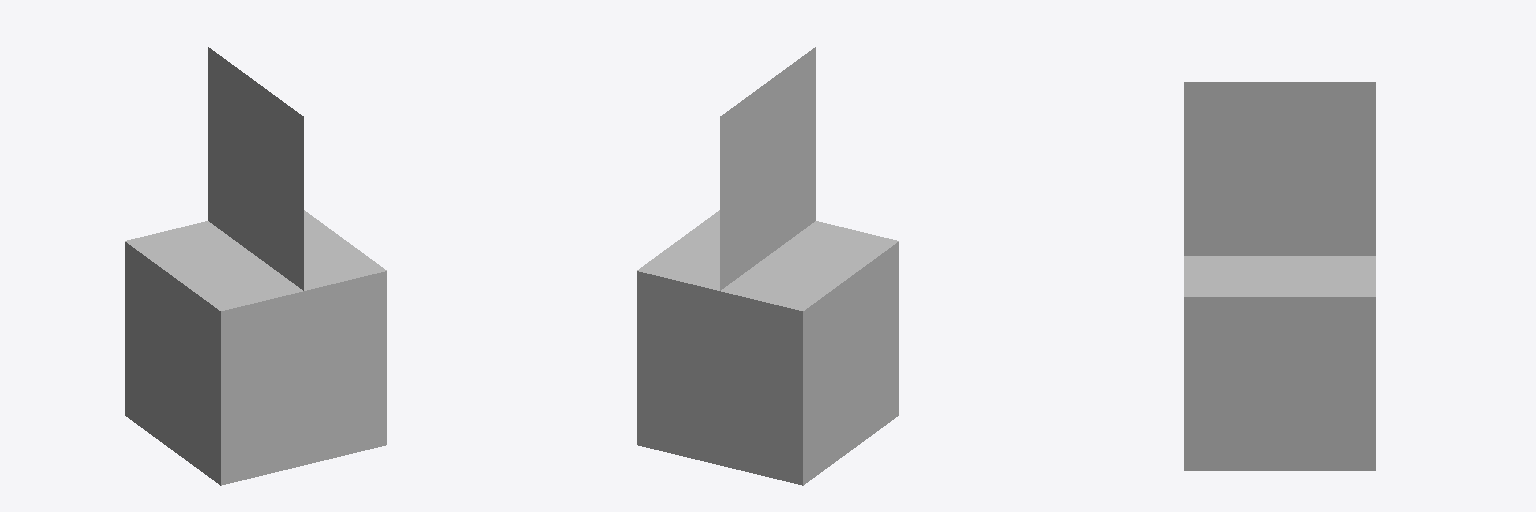
Rendered from toolbox.obj.
The picture shows the model from 3 angles: view 1: azimuth 30°, elevation 25°; view 2: azimuth 150°, elevation 25°; view 3: azimuth 270°, elevation 25°; orthographic projection.
Parts seen in each view (by area): view 1: Cube; view 2: Cube; view 3: Cube.
Part boxes in pixels (bbox=[...]): Cube: bbox=[125, 47, 386, 485]; Cube: bbox=[637, 47, 898, 485]; Cube: bbox=[1184, 82, 1375, 470].
Bounding box in the file's own units: 0.5 × 1 × 0.5.